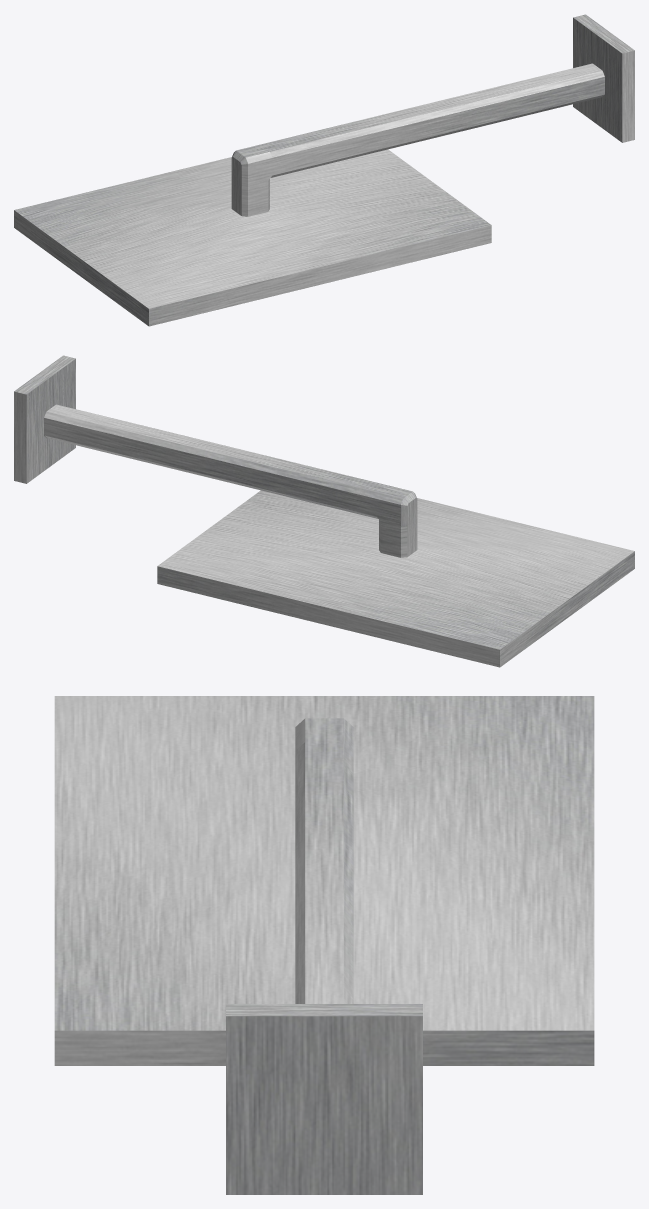
The model's file is Shower Head.FBX.
3 renders of one model, top to bottom at view 1: azimuth 30°, elevation 25°; view 2: azimuth 150°, elevation 25°; view 3: azimuth 270°, elevation 25°, orthographic. The views are drawn at different scales.
Parts seen in each view (by area): view 1: Box001; view 2: Box001; view 3: Box001.
Part boxes in pixels (left/top/right/bottom): Box001: left=14, top=14, right=634, bottom=326; Box001: left=14, top=355, right=634, bottom=667; Box001: left=54, top=696, right=594, bottom=1194.
Size of the model in its own units: 125 by 26.17 by 55.36.
1 material, 1 textured.
